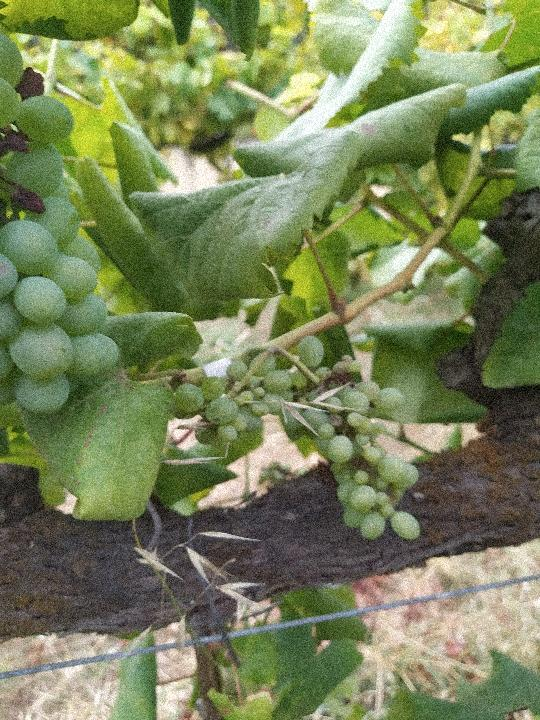grape: (175, 334, 428, 546)
